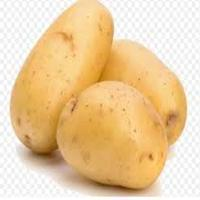biodegradable: (8, 0, 115, 153), (55, 78, 170, 189), (98, 38, 188, 147)
